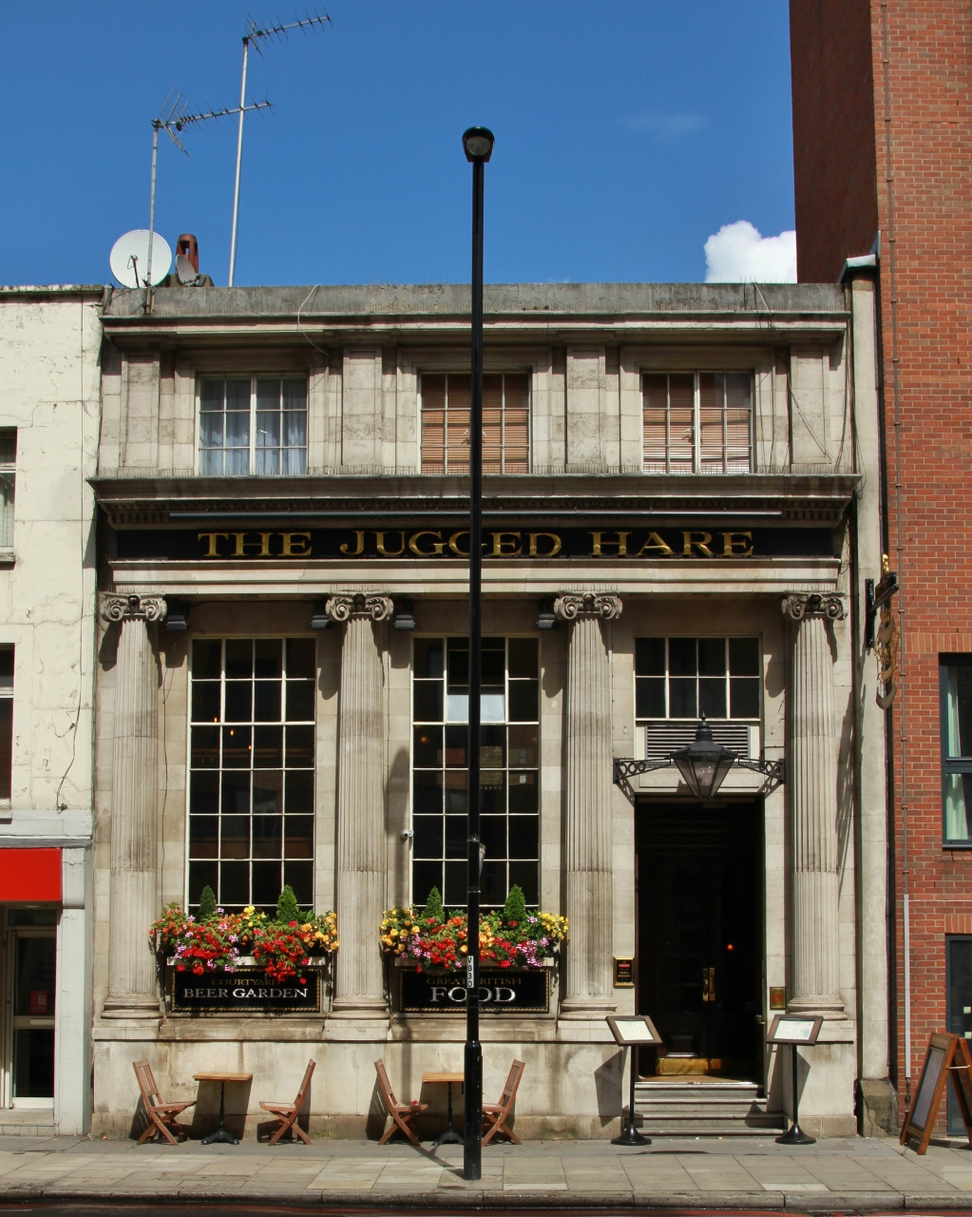fachada: (101, 279, 887, 1135), (801, 0, 972, 1135), (0, 282, 101, 1122)
poste: (434, 114, 516, 1182)
